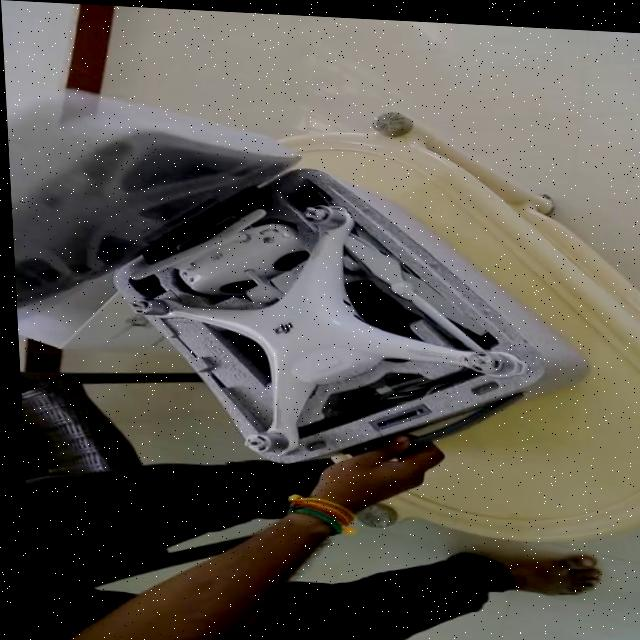drone: (119, 187, 534, 471)
